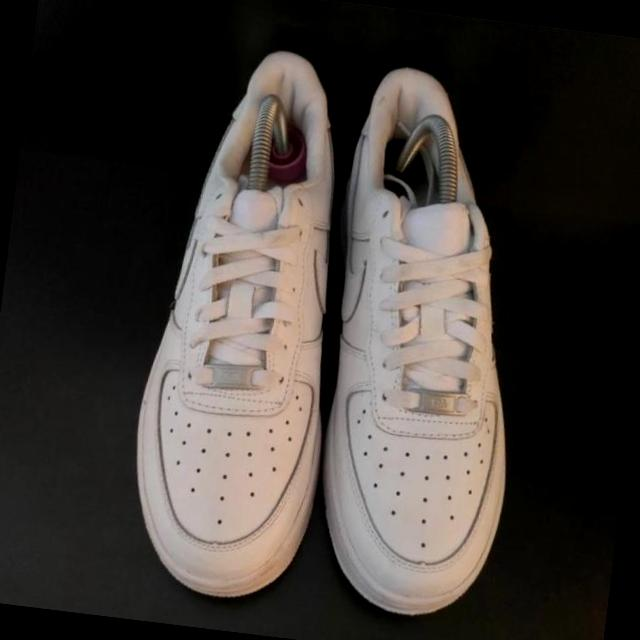nike_fake_airforce: (114, 41, 368, 612), (300, 64, 555, 622)
